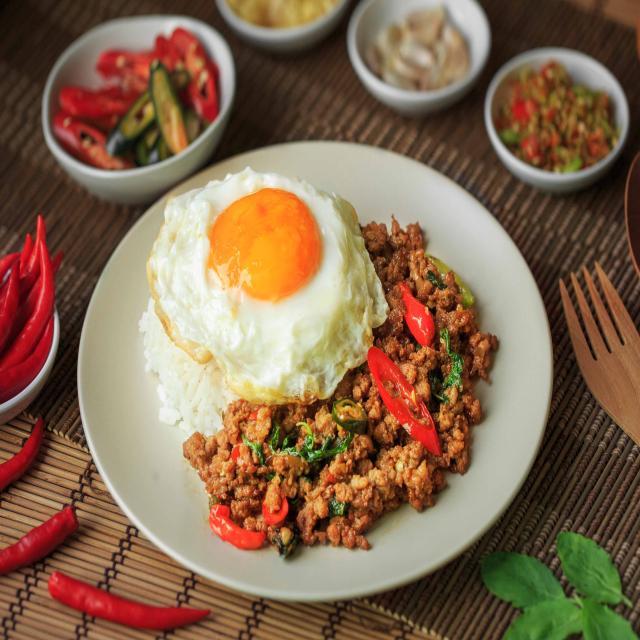Carbohydrate: (138, 209, 380, 449)
Kaow-Padkrapao: (98, 146, 516, 588)
Protein: (182, 219, 493, 549), (147, 168, 382, 400)
Vegetable: (371, 282, 449, 468), (237, 412, 377, 488)
